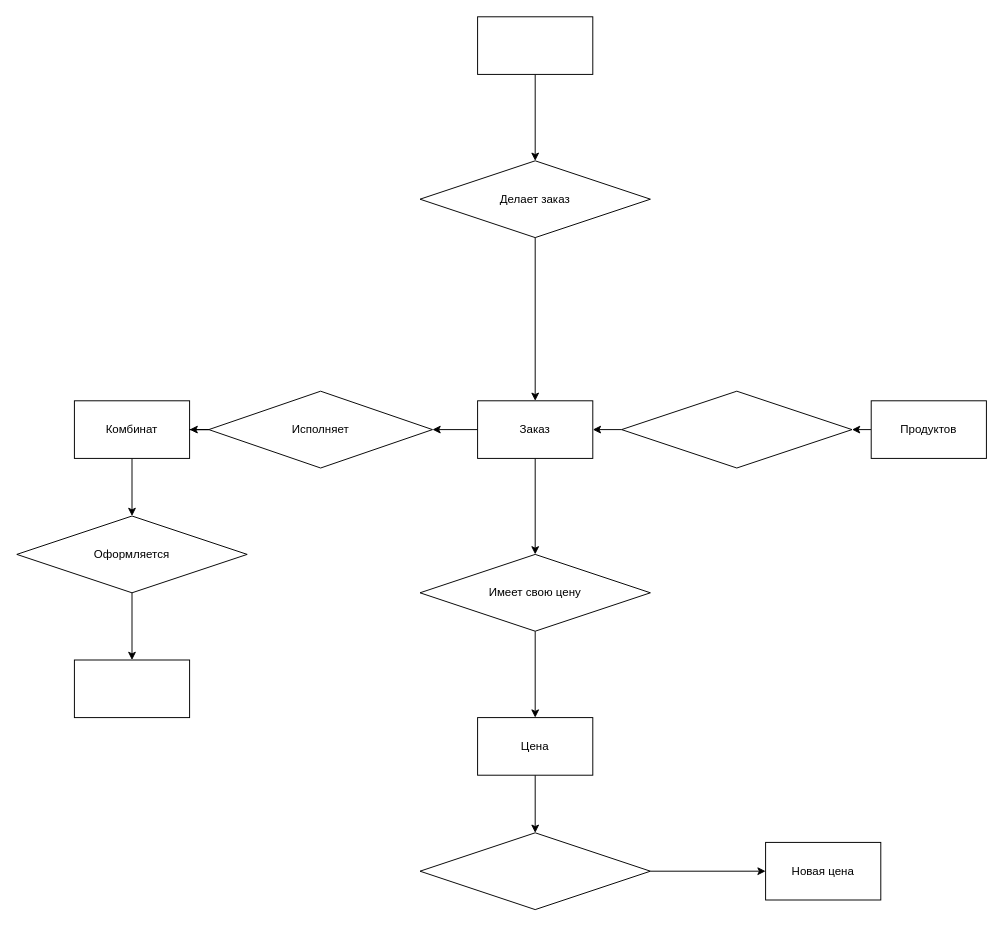
Image size: 1003x926. Some labels were removed from this diagram. Here are the shapes that lost their labels. From the top down, the centre of each, then its label:
the point at 535,45: Некая организация
the point at 736,429: Зависит от
the point at 131,688: Поставка
the point at 534,871: Меняется из-за тенденций рынка
